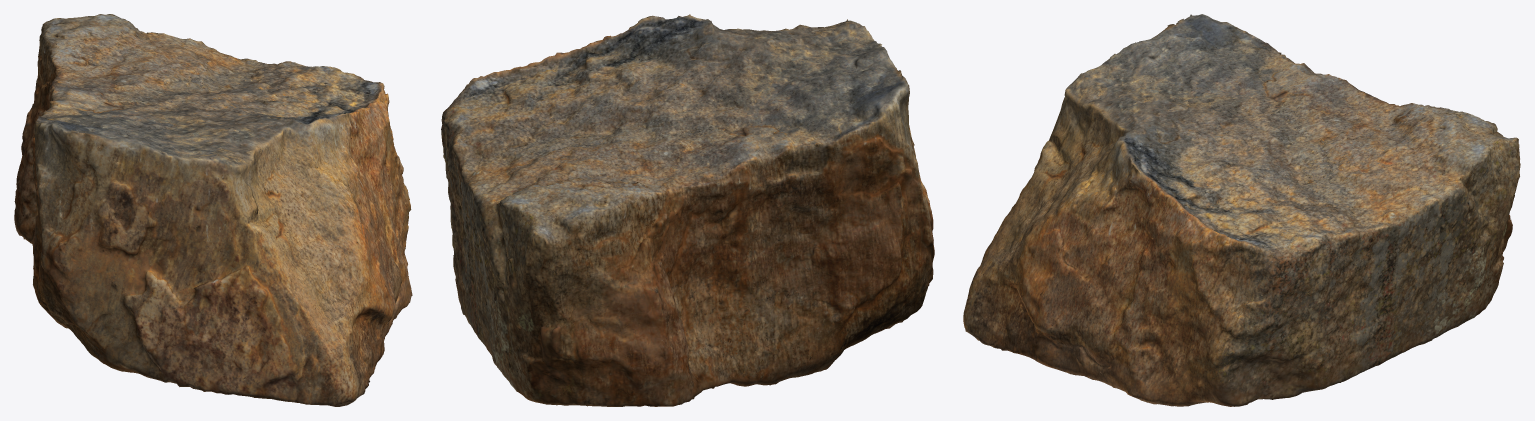
Rendered from namaqualand_boulder_03.glb.
3 views of the same model, side by side, from view 1: azimuth 30°, elevation 25°; view 2: azimuth 150°, elevation 25°; view 3: azimuth 270°, elevation 25° (orthographic). The views are drawn at different scales.
Visible parts, largest first — view 1: boulder_03_LOD0; view 2: boulder_03_LOD0; view 3: boulder_03_LOD0.
Part boxes in pixels (x1,y1,x2,y2): boulder_03_LOD0: (14,14,412,406); boulder_03_LOD0: (441,14,934,406); boulder_03_LOD0: (963,14,1520,406).
Bounding box in the file's own units: 2.41 × 1.47 × 3.07.
1 material, 1 textured.
